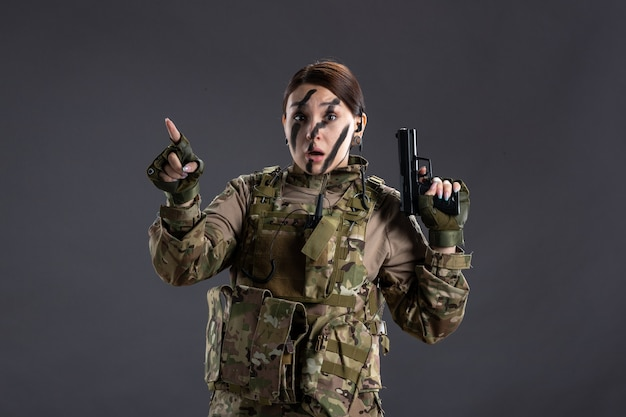gun: (396, 126, 462, 215)
